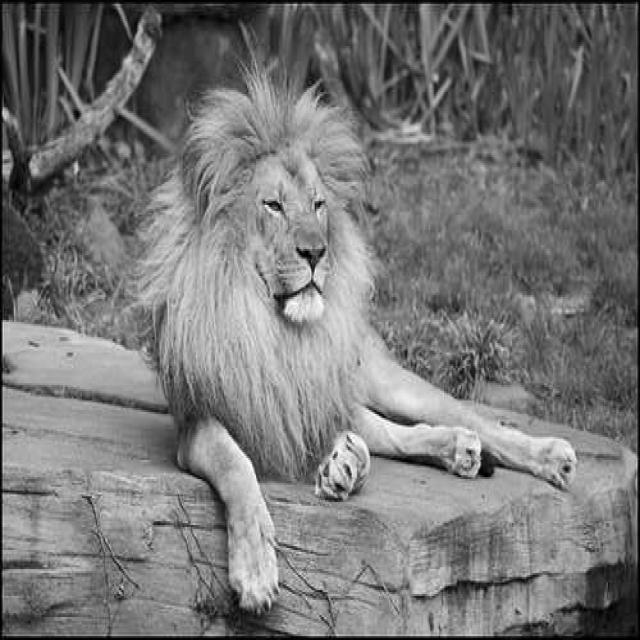Lion: (129, 85, 474, 531)
